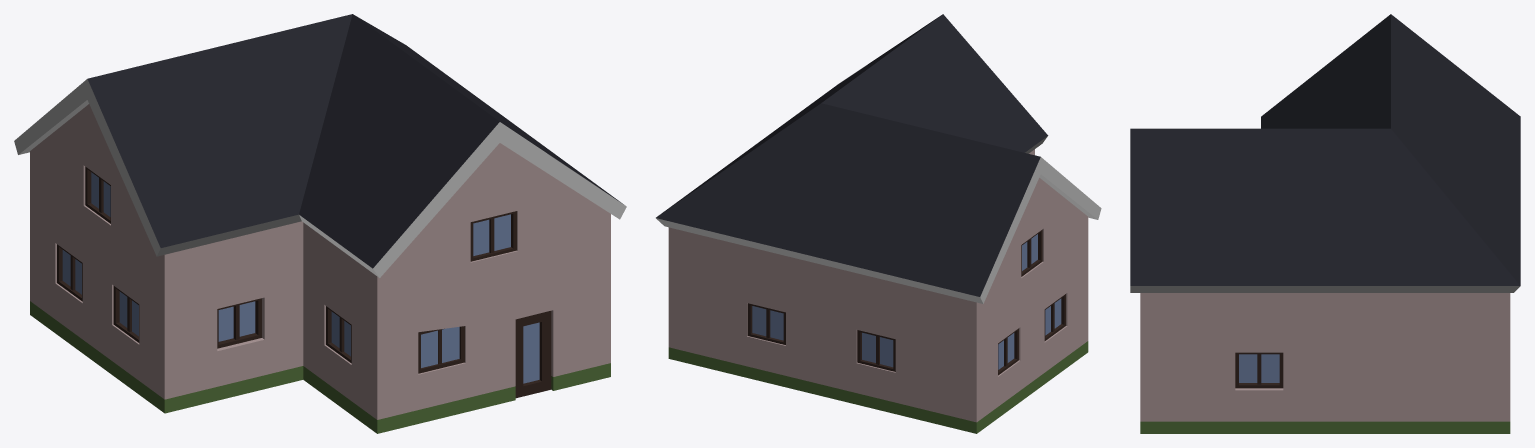
The model's file is FamilyHouse_11.fbx.
The picture shows the model from 3 angles, left to right: view 1: azimuth 30°, elevation 25°; view 2: azimuth 150°, elevation 25°; view 3: azimuth 270°, elevation 25°; orthographic projection. The views are drawn at different scales.
Visible parts, largest first — view 1: FamilyHouse_11; view 2: FamilyHouse_11; view 3: FamilyHouse_11.
Part boxes in pixels (x1,y1,x2,y2): FamilyHouse_11: (14,14,626,433); FamilyHouse_11: (656,14,1101,433); FamilyHouse_11: (1130,14,1520,433).
Size of the model in its own units: 11.89 by 8.34 by 11.58.
